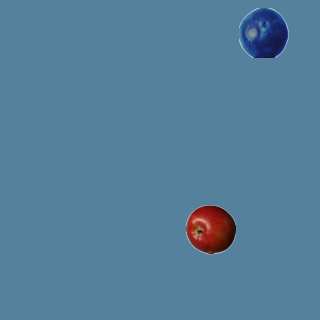Apple Braeburn: (185, 204, 235, 254)
Huckleberry: (238, 7, 288, 57)
